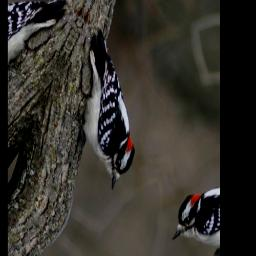Woodpecker: (47, 24, 170, 195)
